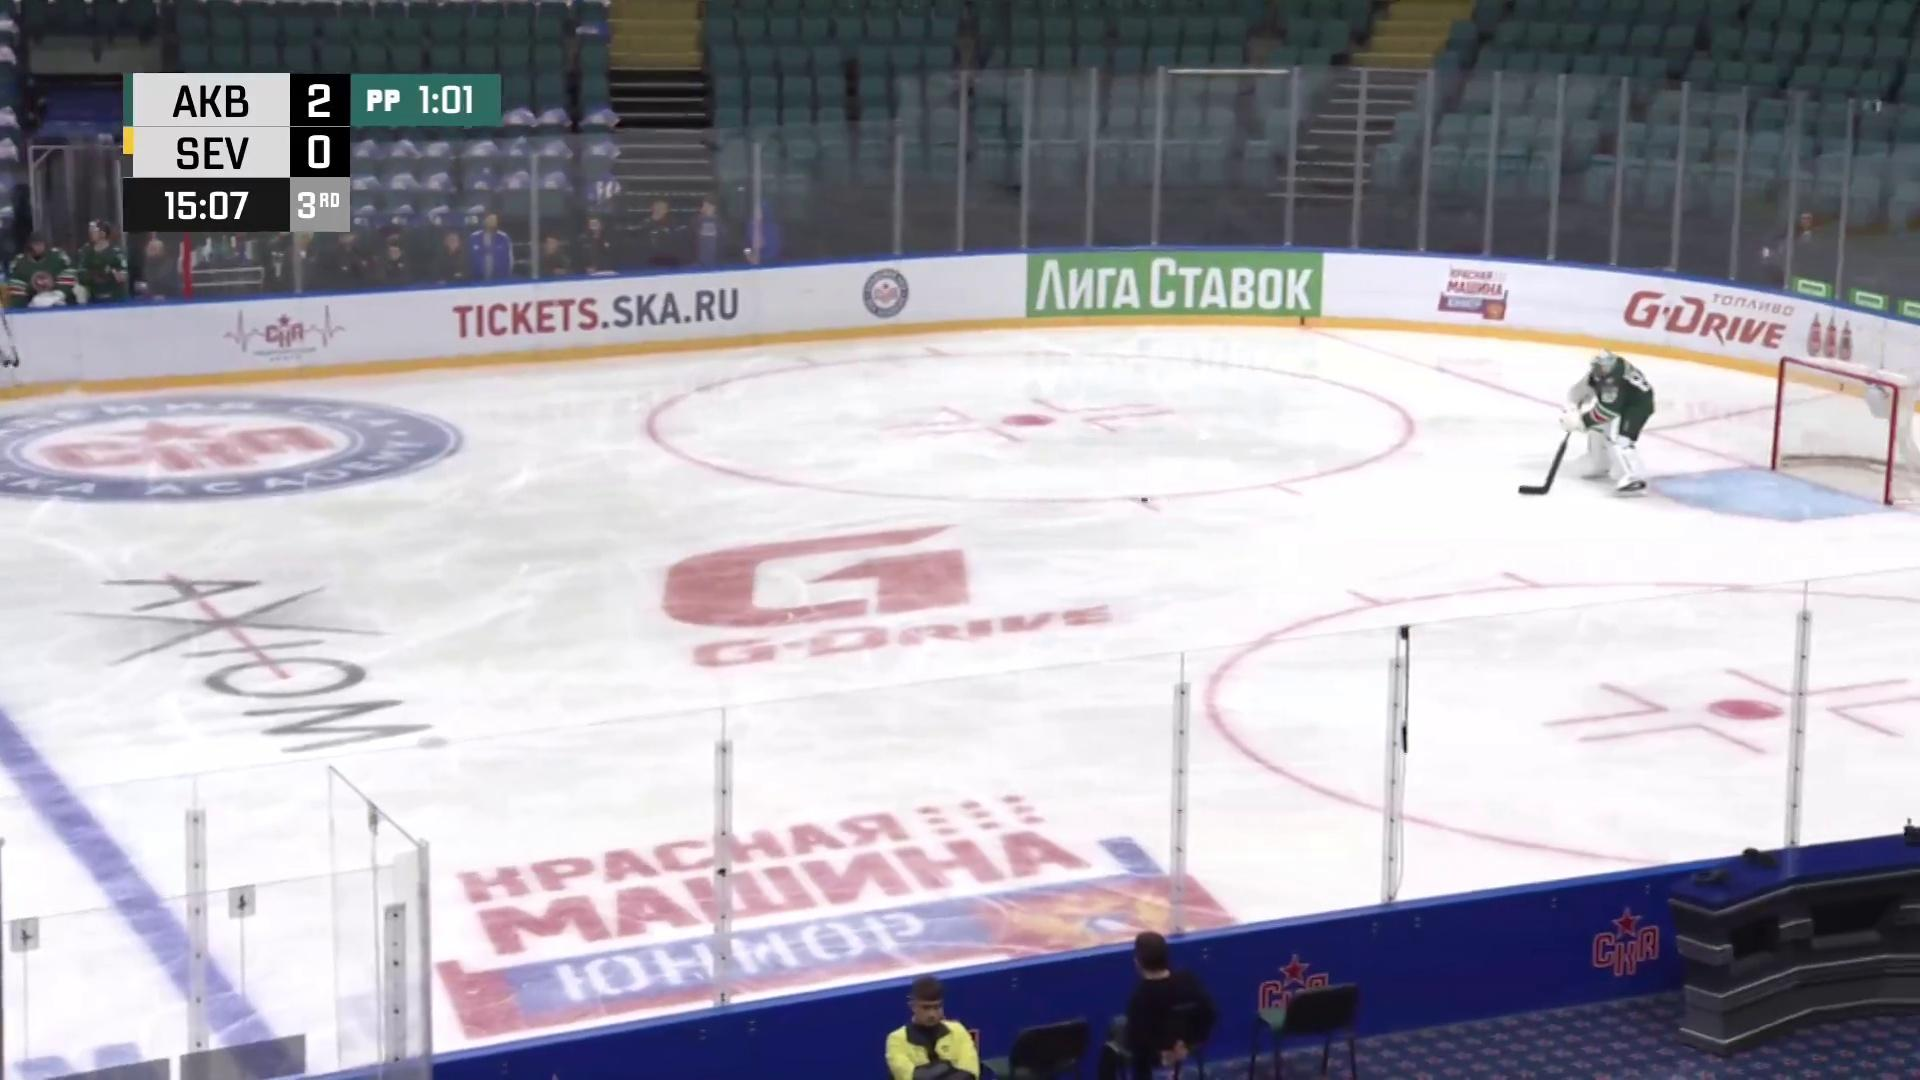ball: (1139, 496, 1151, 504)
